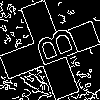B: (25, 25, 80, 72)
